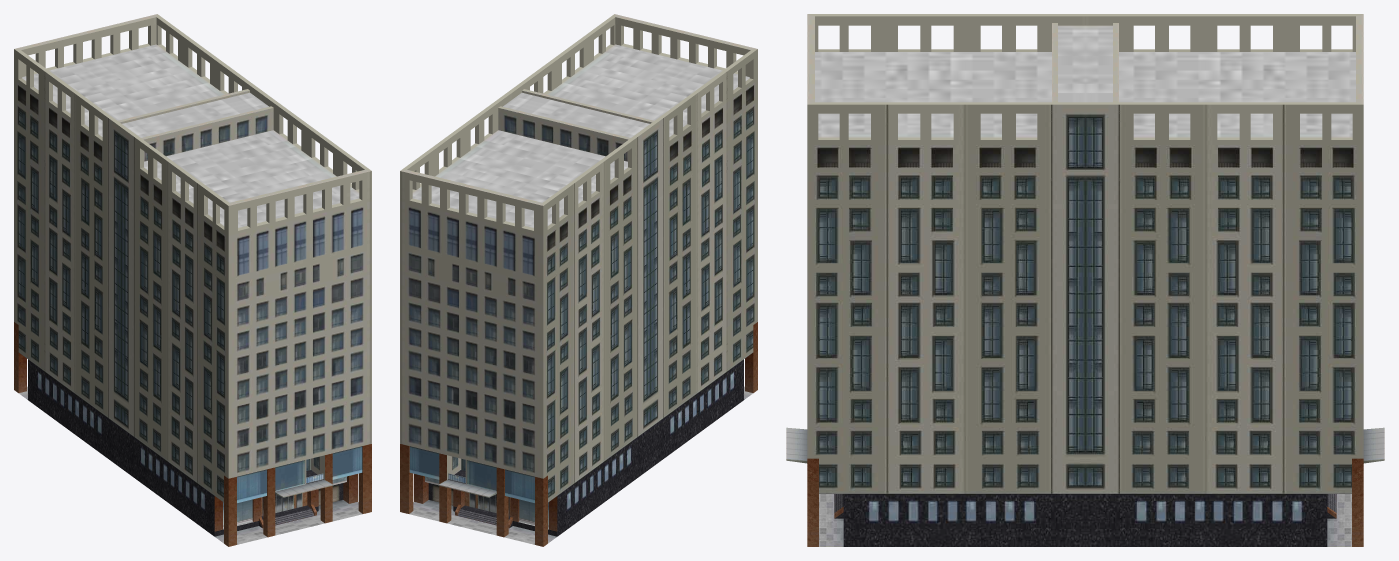
3 renders of one model, left to right at view 1: azimuth 30°, elevation 25°; view 2: azimuth 150°, elevation 25°; view 3: azimuth 270°, elevation 25°, orthographic. The views are drawn at different scales.
Visible parts, largest first — view 1: 5bb736be78475317d8547987; view 2: 5bb736be78475317d8547987; view 3: 5bb736be78475317d8547987.
Boxes of the visible parts, x1=… form: 5bb736be78475317d8547987: x1=14, y1=14, x2=371, y2=546; 5bb736be78475317d8547987: x1=400, y1=14, x2=757, y2=546; 5bb736be78475317d8547987: x1=786, y1=14, x2=1384, y2=546.
Size of the model in its own units: 22 by 50 by 61.33.
1 material, 1 textured.
